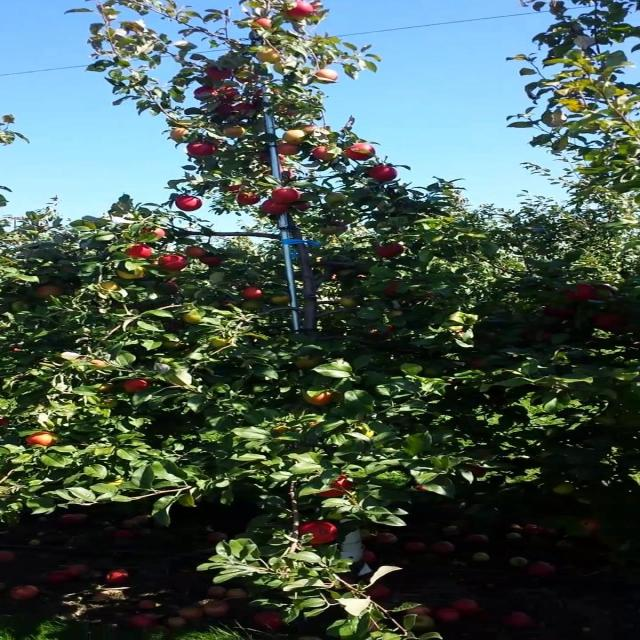apple: (298, 520, 341, 547), (319, 476, 356, 500), (596, 312, 628, 331), (284, 4, 315, 20), (262, 200, 292, 216), (177, 196, 206, 212), (348, 144, 377, 160), (127, 244, 155, 260), (369, 168, 398, 183), (28, 432, 57, 447), (305, 392, 334, 407), (163, 256, 190, 272), (262, 168, 295, 181), (568, 284, 594, 300), (376, 244, 405, 258), (191, 144, 219, 158), (191, 88, 219, 102), (276, 188, 302, 203), (205, 68, 235, 80), (383, 280, 405, 296), (255, 52, 284, 64), (319, 224, 348, 236), (120, 268, 148, 280), (596, 284, 617, 300), (319, 68, 341, 83), (234, 72, 261, 84), (220, 128, 249, 139), (547, 308, 576, 319), (255, 88, 284, 99), (298, 356, 322, 369), (262, 152, 288, 164), (170, 128, 192, 142), (141, 228, 169, 239), (525, 332, 555, 342), (276, 144, 300, 156), (312, 148, 336, 160), (284, 132, 308, 144), (127, 380, 149, 393), (241, 192, 261, 206), (468, 464, 489, 477), (241, 288, 263, 300), (220, 88, 242, 100), (184, 248, 206, 260), (184, 312, 206, 324), (241, 300, 263, 312), (554, 484, 576, 496), (262, 152, 284, 164), (376, 324, 398, 336), (340, 296, 361, 308), (255, 20, 276, 31), (596, 416, 619, 426), (42, 288, 64, 298), (269, 296, 292, 305), (276, 108, 299, 117), (212, 336, 229, 348), (326, 196, 348, 205), (262, 88, 284, 97), (220, 104, 235, 117), (227, 184, 251, 192), (227, 184, 251, 192), (468, 360, 489, 369), (99, 284, 121, 292), (305, 124, 320, 135), (163, 340, 183, 348), (241, 104, 258, 112), (276, 428, 293, 436), (207, 256, 222, 265), (92, 360, 107, 369), (255, 88, 268, 98), (170, 280, 180, 292), (298, 204, 313, 212), (220, 300, 235, 308), (383, 328, 396, 336)
